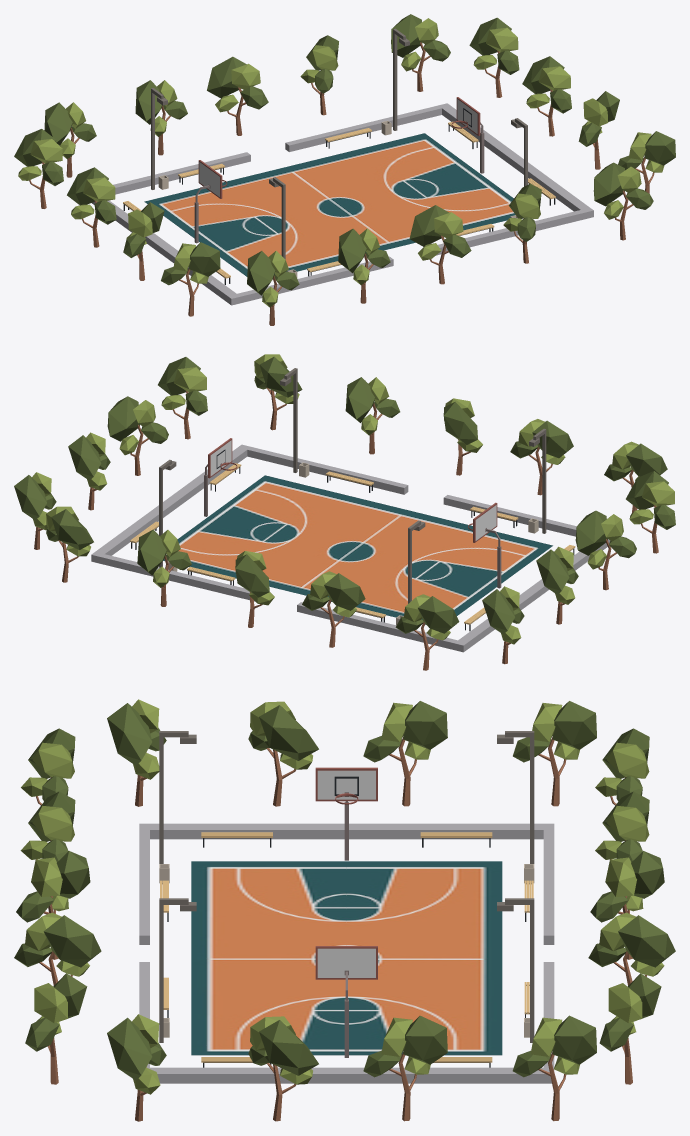
Rendered from new-court.glb.
3 views of the same model, one above another, from view 1: azimuth 30°, elevation 25°; view 2: azimuth 150°, elevation 25°; view 3: azimuth 270°, elevation 25° (orthographic). The views are drawn at different scales.
Parts seen in each view (by area): view 1: Object_17, Base_1.002, tree01, tree01.005, tree01.003, tree01.011, tree01.015, tree01.013, tree01.017, tree01.008, Light Pillars_3.001, tree01.012 (+11 smaller); view 2: Object_17, Base_1.002, tree01.010, tree01.014, tree01.012, tree01.016, Light Pillars_3.001, tree01.006, tree01.009, tree01.002, tree01.007, tree01.001 (+11 smaller); view 3: Object_17, Base_1.002, Basketball_Stand_6, Light Pillars_3.001, tree01.015, tree01.011, tree01.017, tree01.013, tree01.002, tree01.007, tree01.010, tree01.014 (+12 smaller).
Part boxes in pixels (bbox=[...]): Object_17: bbox=[144, 133, 515, 276]; Base_1.002: bbox=[92, 103, 593, 305]; tree01: bbox=[409, 205, 471, 284]; tree01.005: bbox=[207, 56, 268, 135]; tree01.003: bbox=[593, 162, 653, 240]; tree01.011: bbox=[67, 167, 116, 247]; tree01.015: bbox=[522, 56, 571, 136]; tree01.013: bbox=[14, 129, 63, 208]; tree01.017: bbox=[469, 17, 519, 97]; tree01.008: bbox=[391, 14, 450, 91]; Light Pillars_3.001: bbox=[151, 28, 527, 259]; tree01.012: bbox=[161, 242, 220, 316]; Object_17: bbox=[163, 475, 552, 624]; Base_1.002: bbox=[91, 444, 610, 652]; tree01.010: bbox=[575, 510, 636, 590]; tree01.014: bbox=[107, 396, 168, 475]; tree01.012: bbox=[626, 471, 675, 553]; tree01.016: bbox=[158, 357, 207, 439]; Light Pillars_3.001: bbox=[159, 368, 546, 603]; tree01.006: bbox=[302, 571, 365, 647]; tree01.009: bbox=[395, 594, 459, 670]; tree01.002: bbox=[345, 377, 400, 454]; tree01.007: bbox=[137, 529, 191, 606]; tree01.001: bbox=[510, 419, 573, 495]; Object_17: bbox=[191, 861, 502, 1055]; Base_1.002: bbox=[139, 823, 554, 1083]; Basketball_Stand_6: bbox=[315, 767, 377, 1057]; Light Pillars_3.001: bbox=[159, 731, 534, 1042]; tree01.015: bbox=[363, 1015, 447, 1121]; tree01.011: bbox=[363, 701, 447, 806]; tree01.017: bbox=[512, 1015, 596, 1121]; tree01.013: bbox=[513, 701, 596, 806]; tree01.002: bbox=[14, 912, 101, 985]; tree01.007: bbox=[588, 912, 675, 985]; tree01.010: bbox=[248, 701, 318, 806]; tree01.014: bbox=[248, 1016, 318, 1121].
Size of what is drawn, in the model's own units: 7.99 by 1.51 by 6.35.
10 materials, 2 textured.
